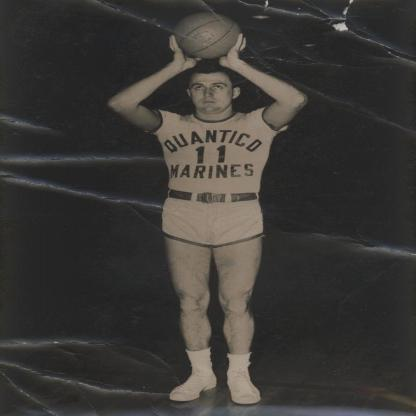Ball: (171, 9, 241, 56)
